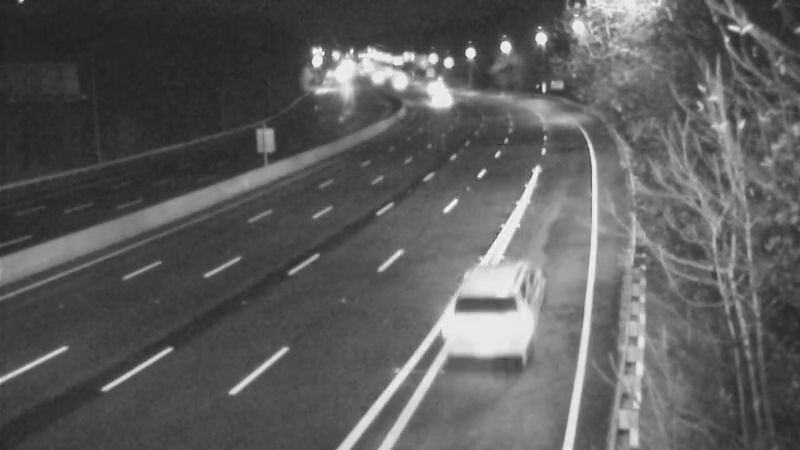vehicle: (429, 267, 539, 377), (411, 60, 461, 110), (417, 77, 467, 127)
